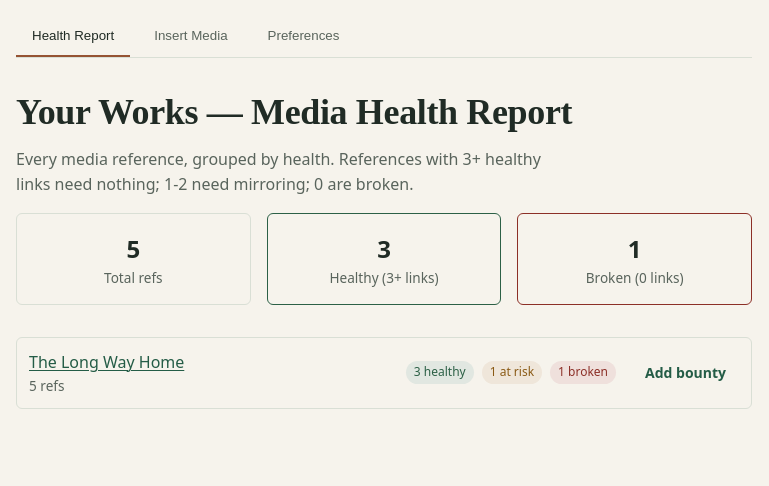
AuthorMedia › switches to Preferences tab and loads prefs
Click the button "Preferences" at x=304, y=36, box [252, 16, 356, 57]
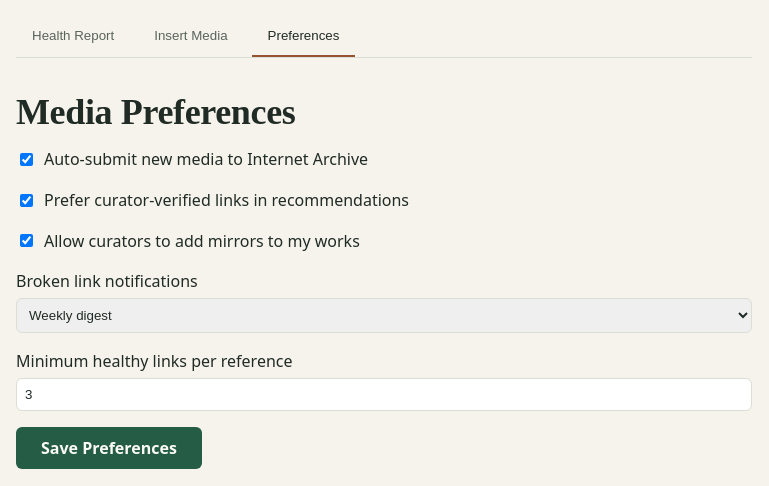
Result: the text "Auto-submit new media to Internet Archive" is shown at [20, 148, 368, 170]
